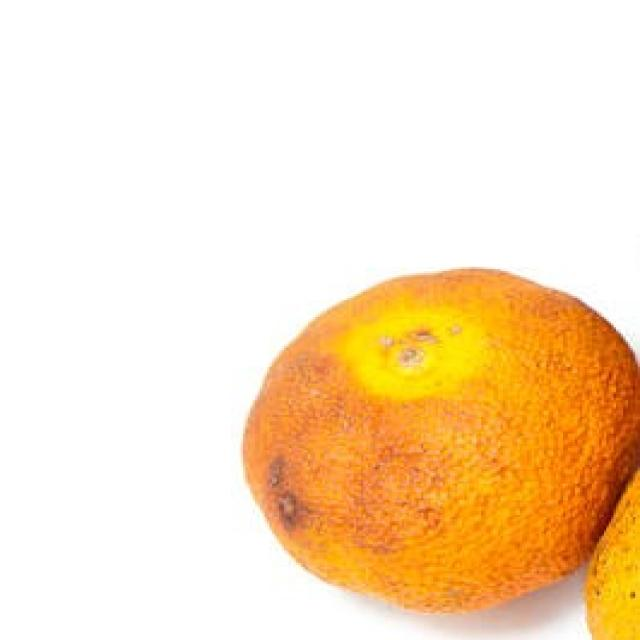overripe: (233, 258, 640, 613)
